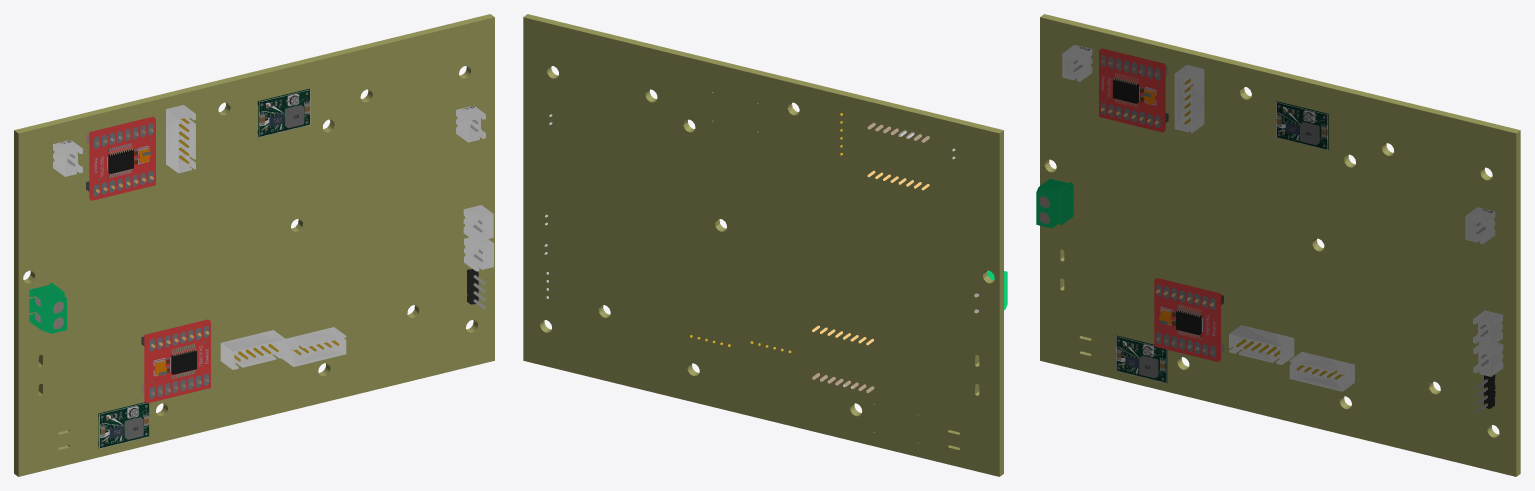
File: PCB_3D.obj
3 renders of one model, left to right at view 1: azimuth 30°, elevation 25°; view 2: azimuth 150°, elevation 25°; view 3: azimuth 330°, elevation 25°, orthographic.
Size of the model in its own units: 617 by 425 by 65.07.
